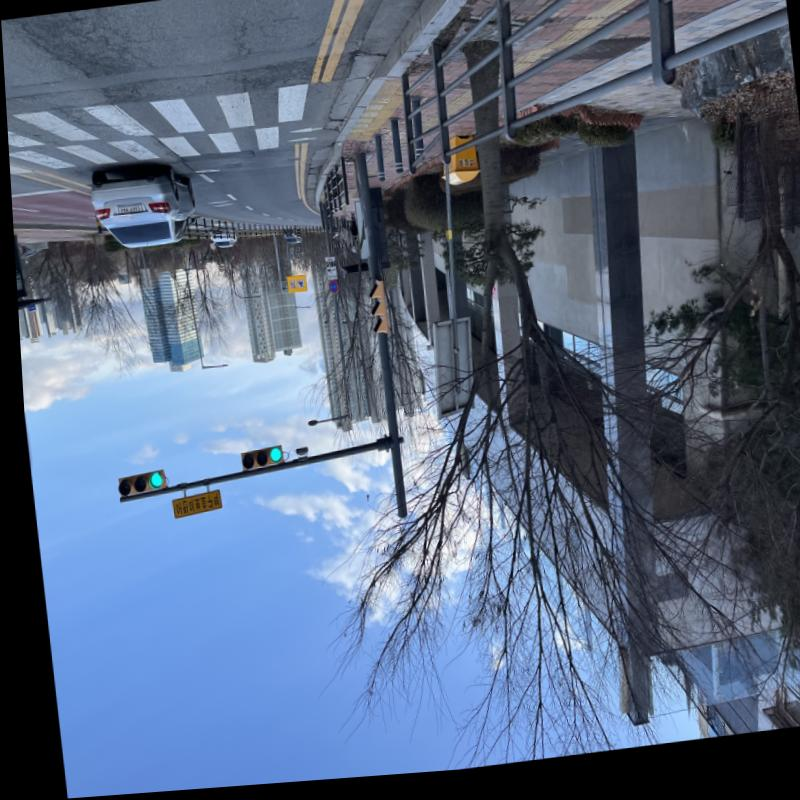green: (142, 472, 159, 492), (263, 450, 277, 468)
